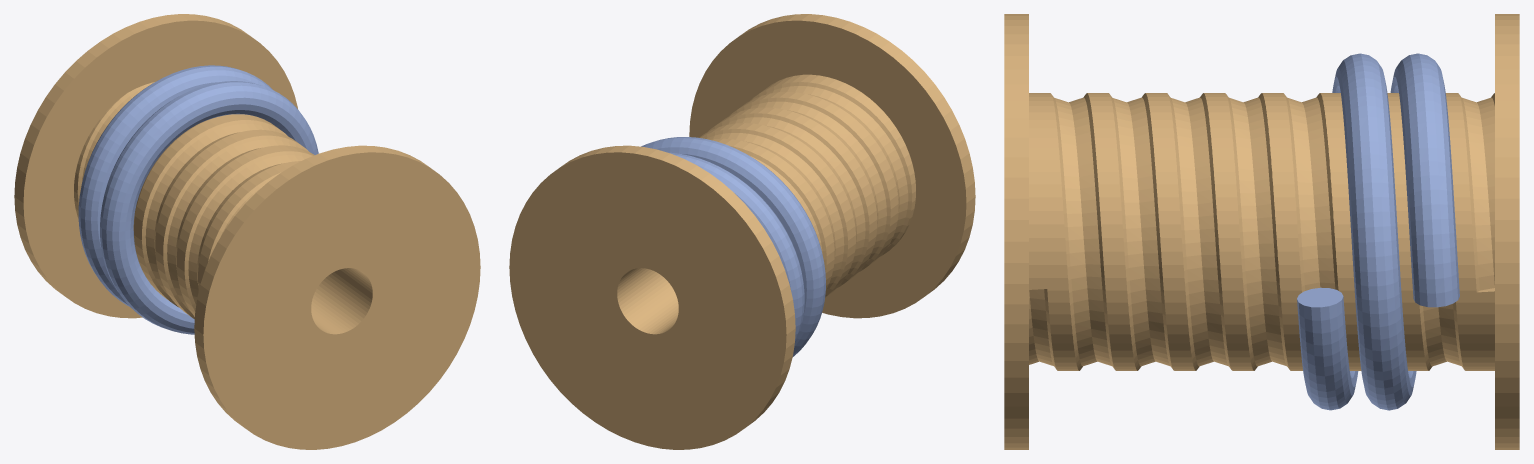
Rendered from winch_drum_demo.glb.
The picture shows the model from 3 angles, left to right: view 1: azimuth 30°, elevation 25°; view 2: azimuth 150°, elevation 25°; view 3: azimuth 270°, elevation 25°; orthographic projection. The views are drawn at different scales.
Visible parts, largest first — view 1: grooved_drum, cable; view 2: grooved_drum, cable; view 3: grooved_drum, cable.
Boxes of the visible parts, box(x1,y1,x2,y2) form: grooved_drum: box(14, 14, 480, 449); cable: box(78, 65, 318, 334); grooved_drum: box(509, 14, 975, 449); cable: box(641, 137, 825, 356); grooved_drum: box(1004, 14, 1519, 449); cable: box(1297, 53, 1459, 410).
Size of the model in its own units: 28.1 by 28.1 by 33.2.
